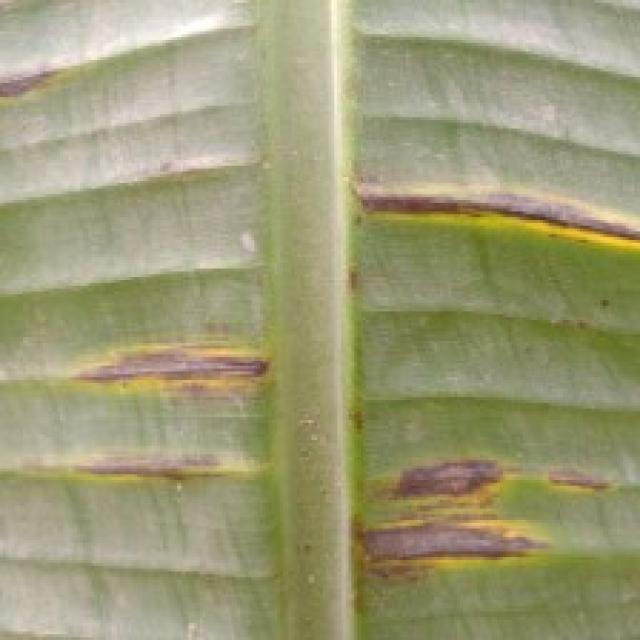Early_leaf_spot: (333, 414, 614, 576), (328, 139, 640, 271), (71, 324, 279, 403), (41, 451, 270, 496), (0, 57, 74, 128)
